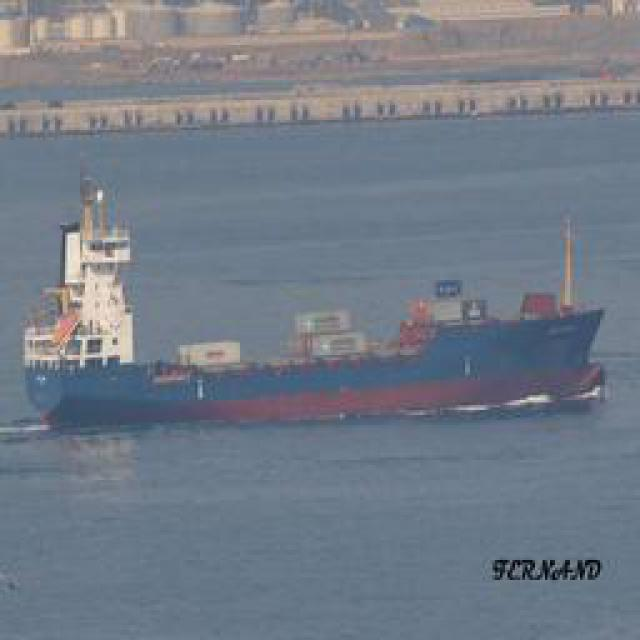Ship: (30, 209, 608, 424)
